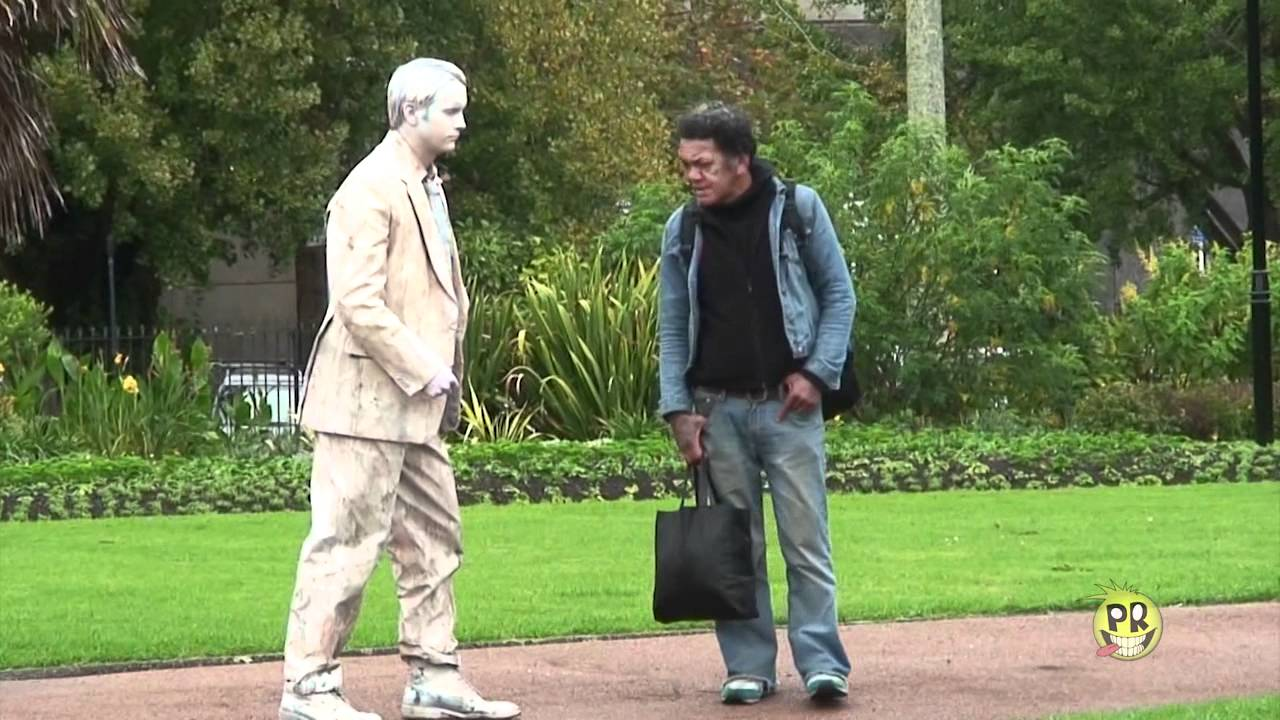person: (645, 107, 858, 711)
person-like: (271, 49, 527, 720)
